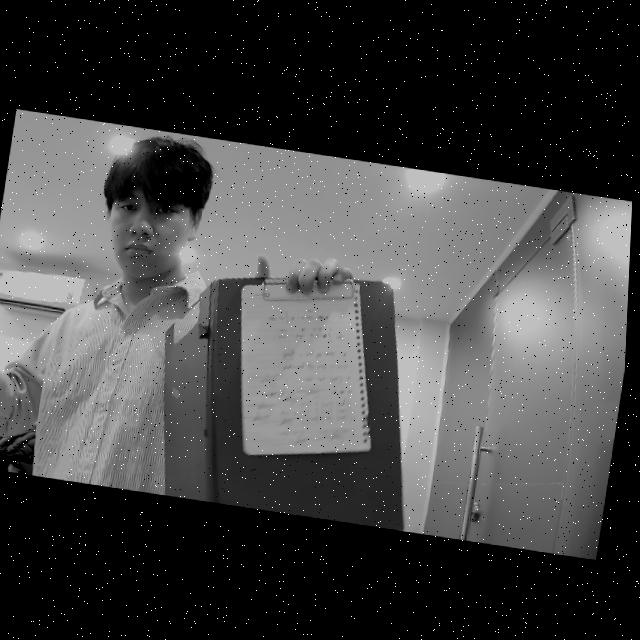document: (241, 282, 371, 454)
face: (92, 176, 201, 287)
